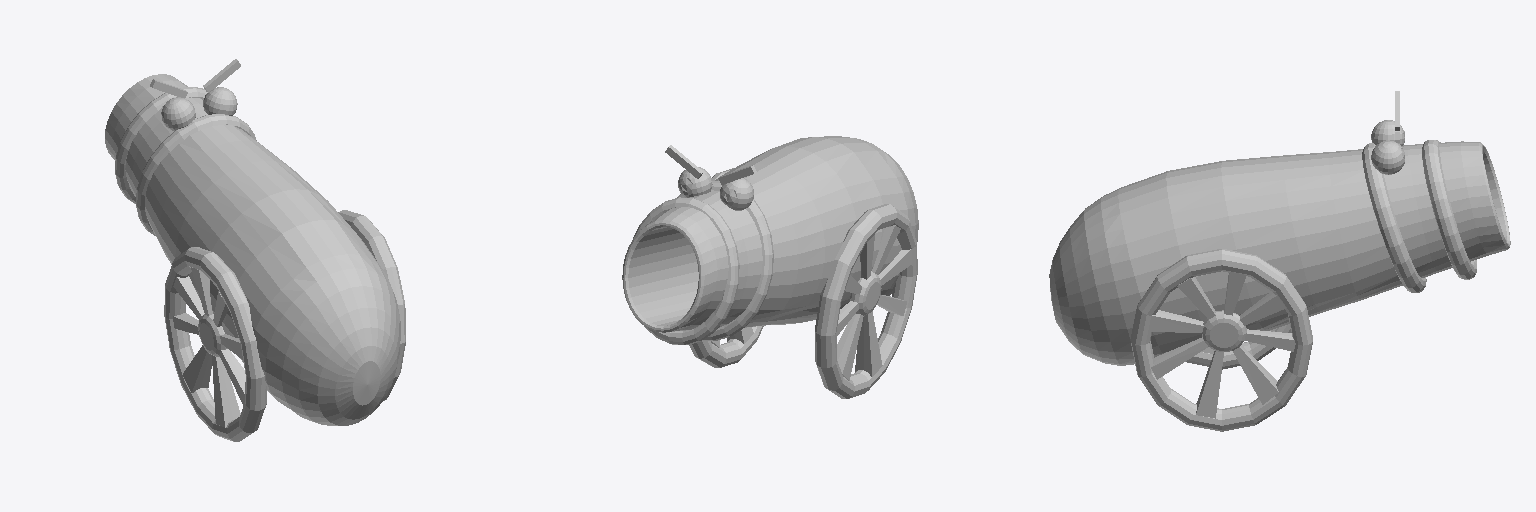
The model's file is cañon.obj.
3 views of the same model, side by side, from view 1: azimuth 30°, elevation 25°; view 2: azimuth 150°, elevation 25°; view 3: azimuth 270°, elevation 25° (orthographic).
Parts seen in each view (by area): view 1: Sphere001, Torus005, Torus006, Torus001, Torus002, Sphere003, Sphere002; view 2: Sphere001, Torus005, Torus002, Torus001, Torus006, Sphere003, Sphere002; view 3: Sphere001, Torus006, Torus001, Torus002, Torus005, Sphere002, Sphere003.
Part boxes in pixels (x1,y1,x2,y2): Sphere001: (105,74,400,425); Torus005: (164,247,266,441); Torus006: (338,210,405,400); Torus001: (136,114,256,235); Torus002: (115,87,207,203); Sphere003: (161,97,195,130); Sphere002: (203,87,237,115); Sphere001: (622,136,918,332); Torus005: (815,204,917,398); Torus002: (633,197,739,344); Torus001: (677,181,773,340); Torus006: (689,168,763,367); Sphere003: (720,178,753,210); Sphere002: (678,167,712,197); Sphere001: (1049,141,1510,365); Torus006: (1130,249,1312,431); Torus001: (1362,143,1426,292); Torus002: (1422,140,1476,279); Torus005: (1186,324,1291,369); Sphere002: (1371,140,1404,174); Sphere003: (1371,120,1404,145).
Size of the model in its own units: 74.08 by 120 by 174.